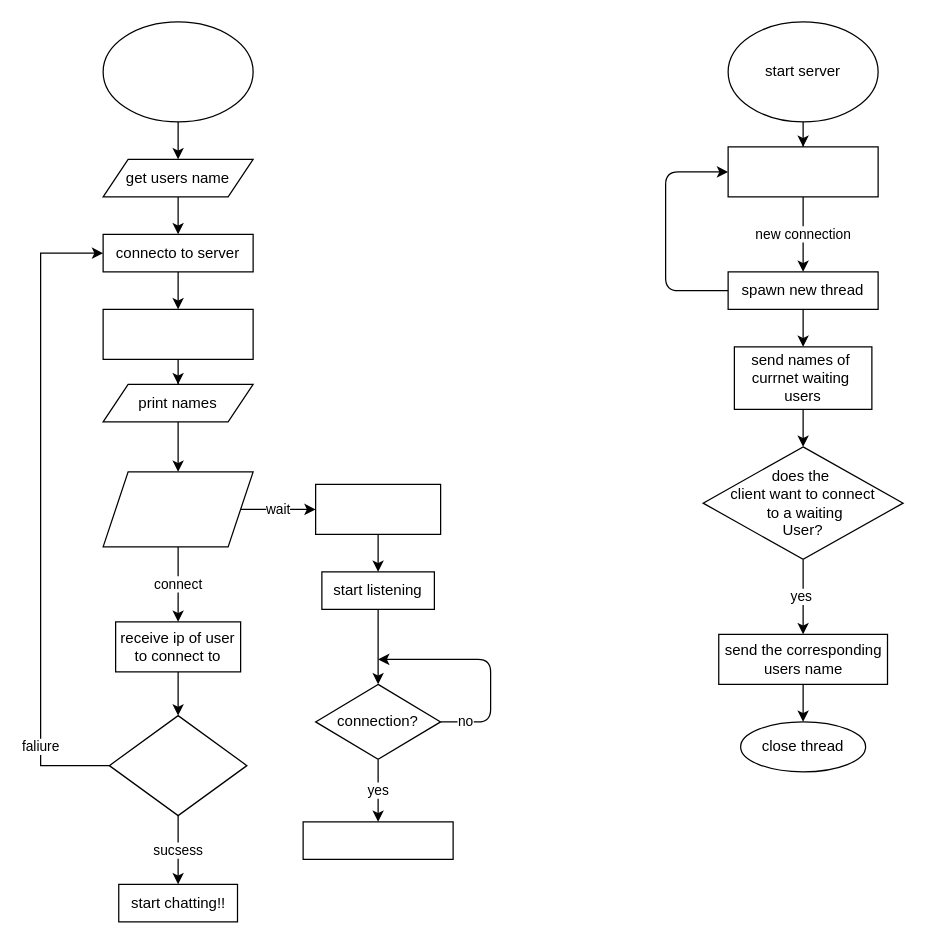
Some shapes in this 925 by 944 pixel diagram are drawn without their labels. Each missing label, with the centre of its shape:
"attempt connection" belongs at (177,765).
"listen for connections" belongs at (802,171).
"receive names of users that are waiting" belongs at (177,333).
"send name/ip to server" belongs at (377,508).
"start chatting!" belongs at (377,840).
"start client" belongs at (177,71).
"user selects name to connect to" belongs at (177,509).
